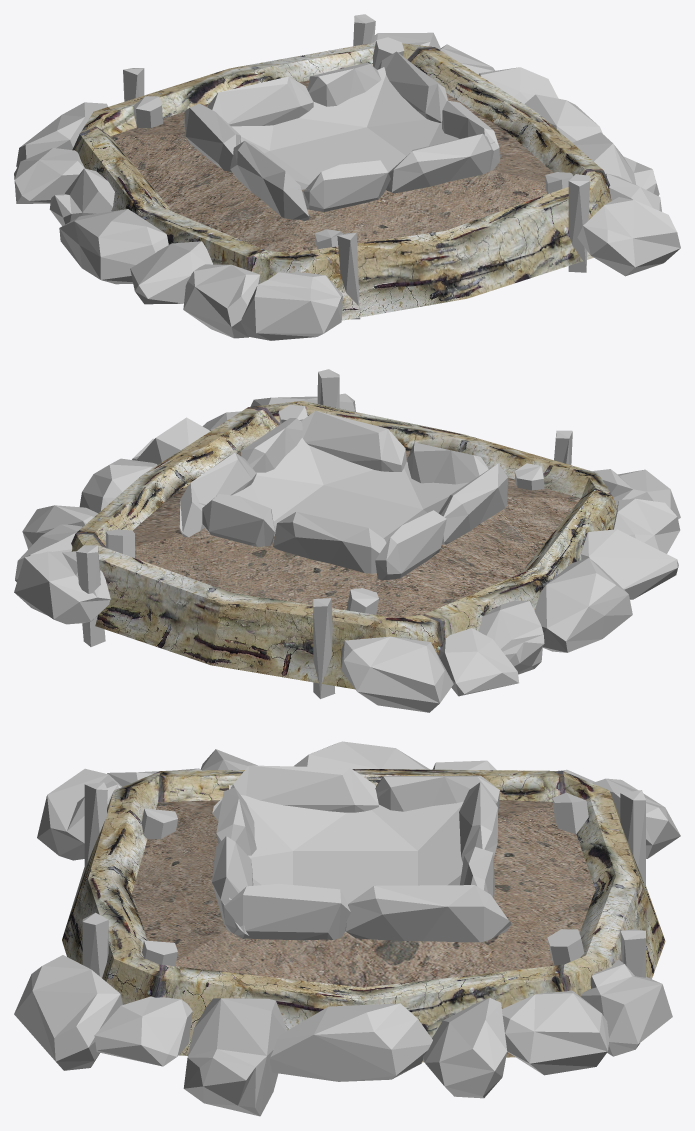
Rendered from Fireplace_1_LOD1.fbx.
3 renders of one model, top to bottom at view 1: azimuth 30°, elevation 25°; view 2: azimuth 150°, elevation 25°; view 3: azimuth 270°, elevation 25°, orthographic. The views are drawn at different scales.
Visible parts, largest first — view 1: Cube_2, Cube, Cube_2_2, Cylinder_8; view 2: Cube_2, Cube, Cube_2_2, Cylinder_8; view 3: Cube_2, Cube, Cube_2_2, Cylinder_8.
Part boxes in pixels (x1,y1,x2,y2): Cube_2: [14, 32, 680, 340]; Cube: [72, 42, 611, 320]; Cube_2_2: [110, 80, 553, 253]; Cylinder_8: [123, 14, 589, 319]; Cube_2: [14, 393, 680, 712]; Cube: [71, 401, 617, 689]; Cube_2_2: [133, 451, 580, 617]; Cylinder_8: [76, 369, 572, 698]; Cube_2: [14, 741, 680, 1116]; Cube: [62, 769, 665, 1062]; Cube_2_2: [132, 800, 595, 987]; Cylinder_8: [82, 782, 645, 977].
Bounding box in the file's own units: 274 × 253 × 63.31.
